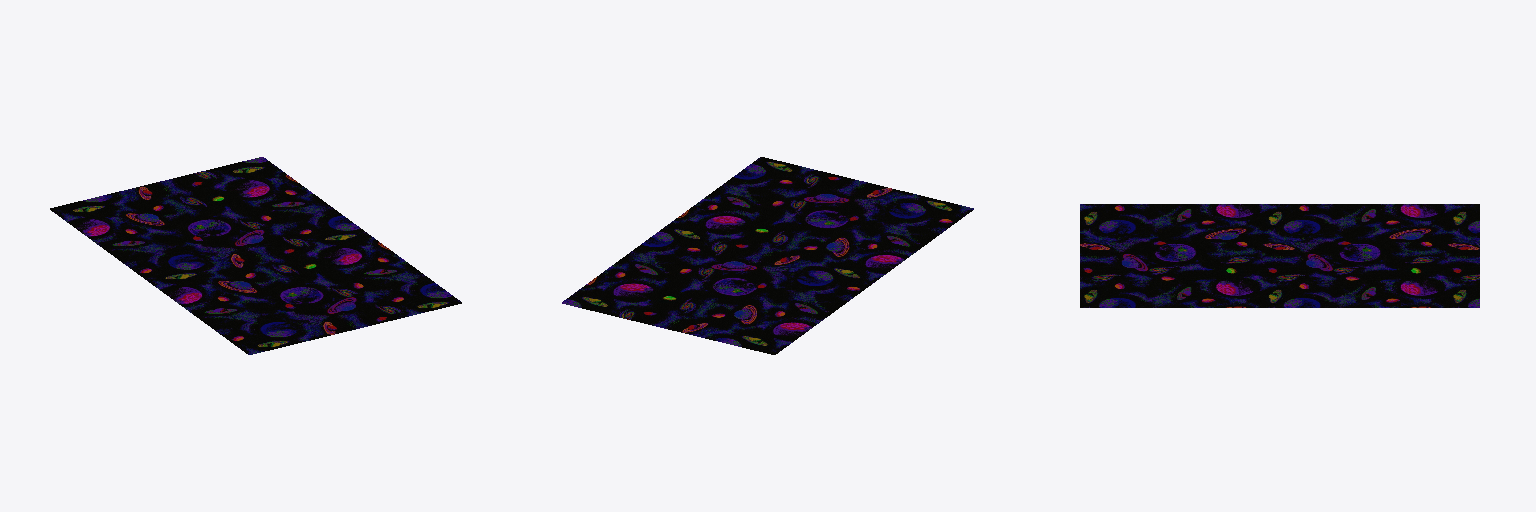
3 renders of one model, left to right at view 1: azimuth 30°, elevation 25°; view 2: azimuth 150°, elevation 25°; view 3: azimuth 270°, elevation 25°, orthographic.
Visible parts, largest first — view 1: Mesh; view 2: Mesh; view 3: Mesh.
Boxes of the visible parts, <box> form: Mesh: <box>50,157,461,354</box>; Mesh: <box>562,157,973,354</box>; Mesh: <box>1080,204,1479,307</box>.
Size of the model in its own units: 5.83 by 0 by 9.45.
Materials: 1 (1 with a texture image).